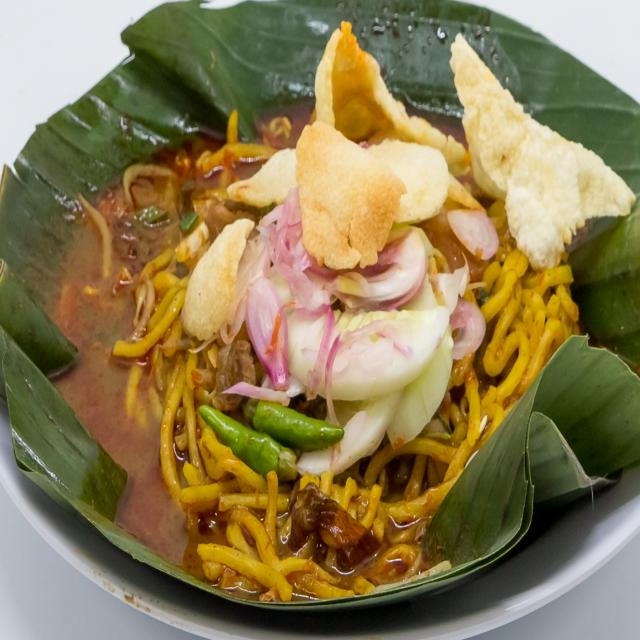Mie-Aceh: (81, 8, 589, 615)
